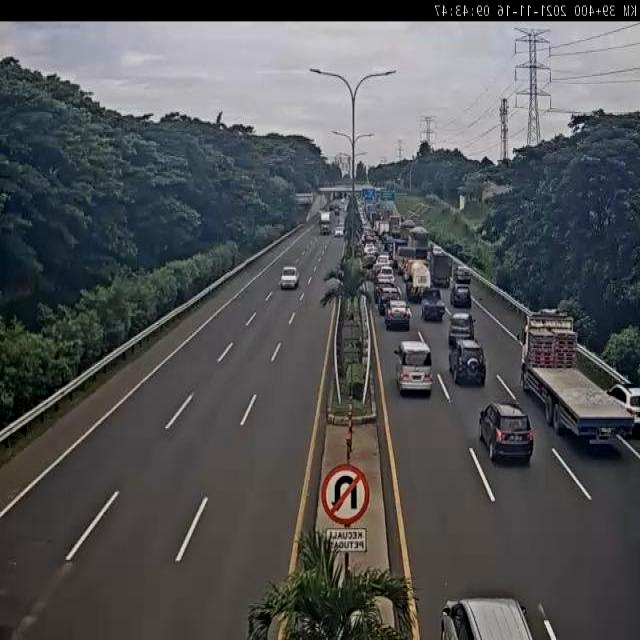Car: (441, 598, 534, 640), (479, 402, 534, 463), (601, 382, 640, 436), (448, 339, 487, 388), (383, 300, 411, 331), (448, 313, 476, 341), (378, 288, 402, 313), (451, 285, 472, 309), (454, 266, 472, 283), (380, 266, 394, 277), (334, 226, 345, 238)
Truck: (517, 308, 635, 445), (406, 257, 433, 298), (420, 287, 446, 322), (429, 252, 454, 288), (407, 226, 430, 258), (398, 244, 417, 276), (280, 265, 300, 290), (391, 238, 407, 264), (399, 219, 415, 240), (320, 211, 333, 234), (389, 212, 402, 235), (376, 221, 389, 238)
Van: (394, 341, 433, 397)
